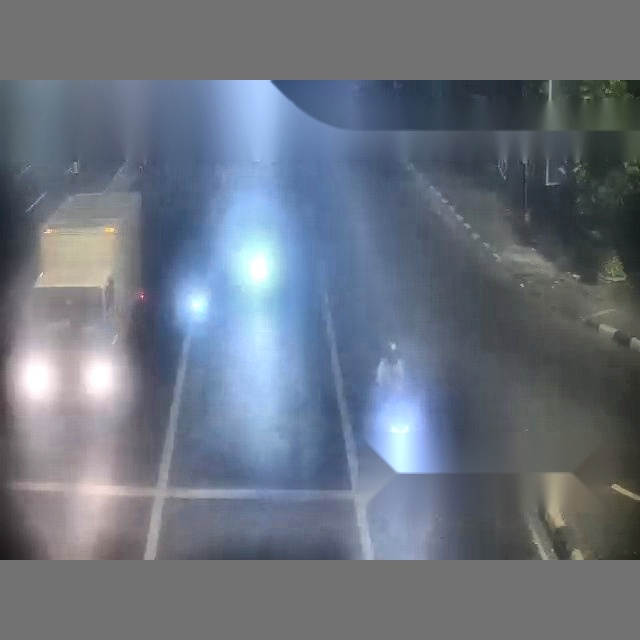Bis: (46, 84, 570, 556)
